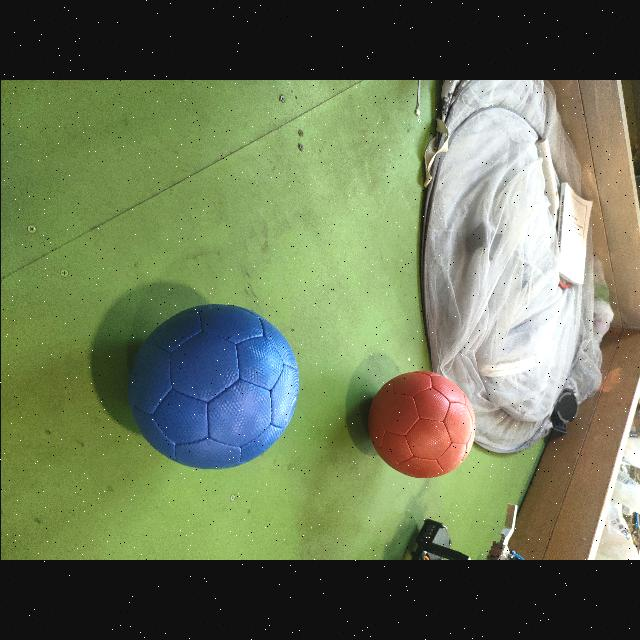B: (123, 303, 298, 470)
R: (364, 370, 474, 479)
